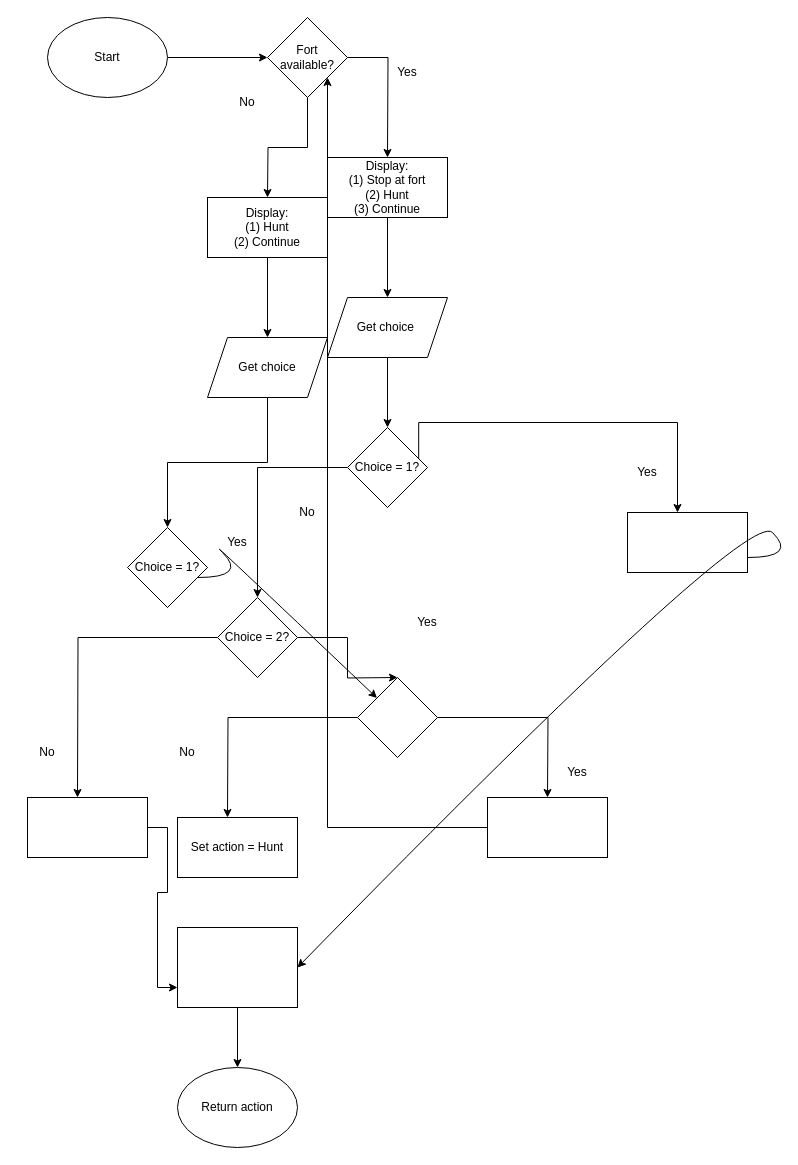
Some shapes in this 798 by 1165 pixel diagram are drawn without their labels. Here are the shapes that lost their labels. From the top down, the centre of each, then its label:
At [687,542]: "Set action = StopAtFort".
At [397,717]: "Bullets < 40?".
At [87,827]: "Set action = Continue".
At [547,827]: "Display: TOUGH---YOU NEED MORE BULLETS TO GO HUNTING".
At [237,967]: "Flip fort availability".
